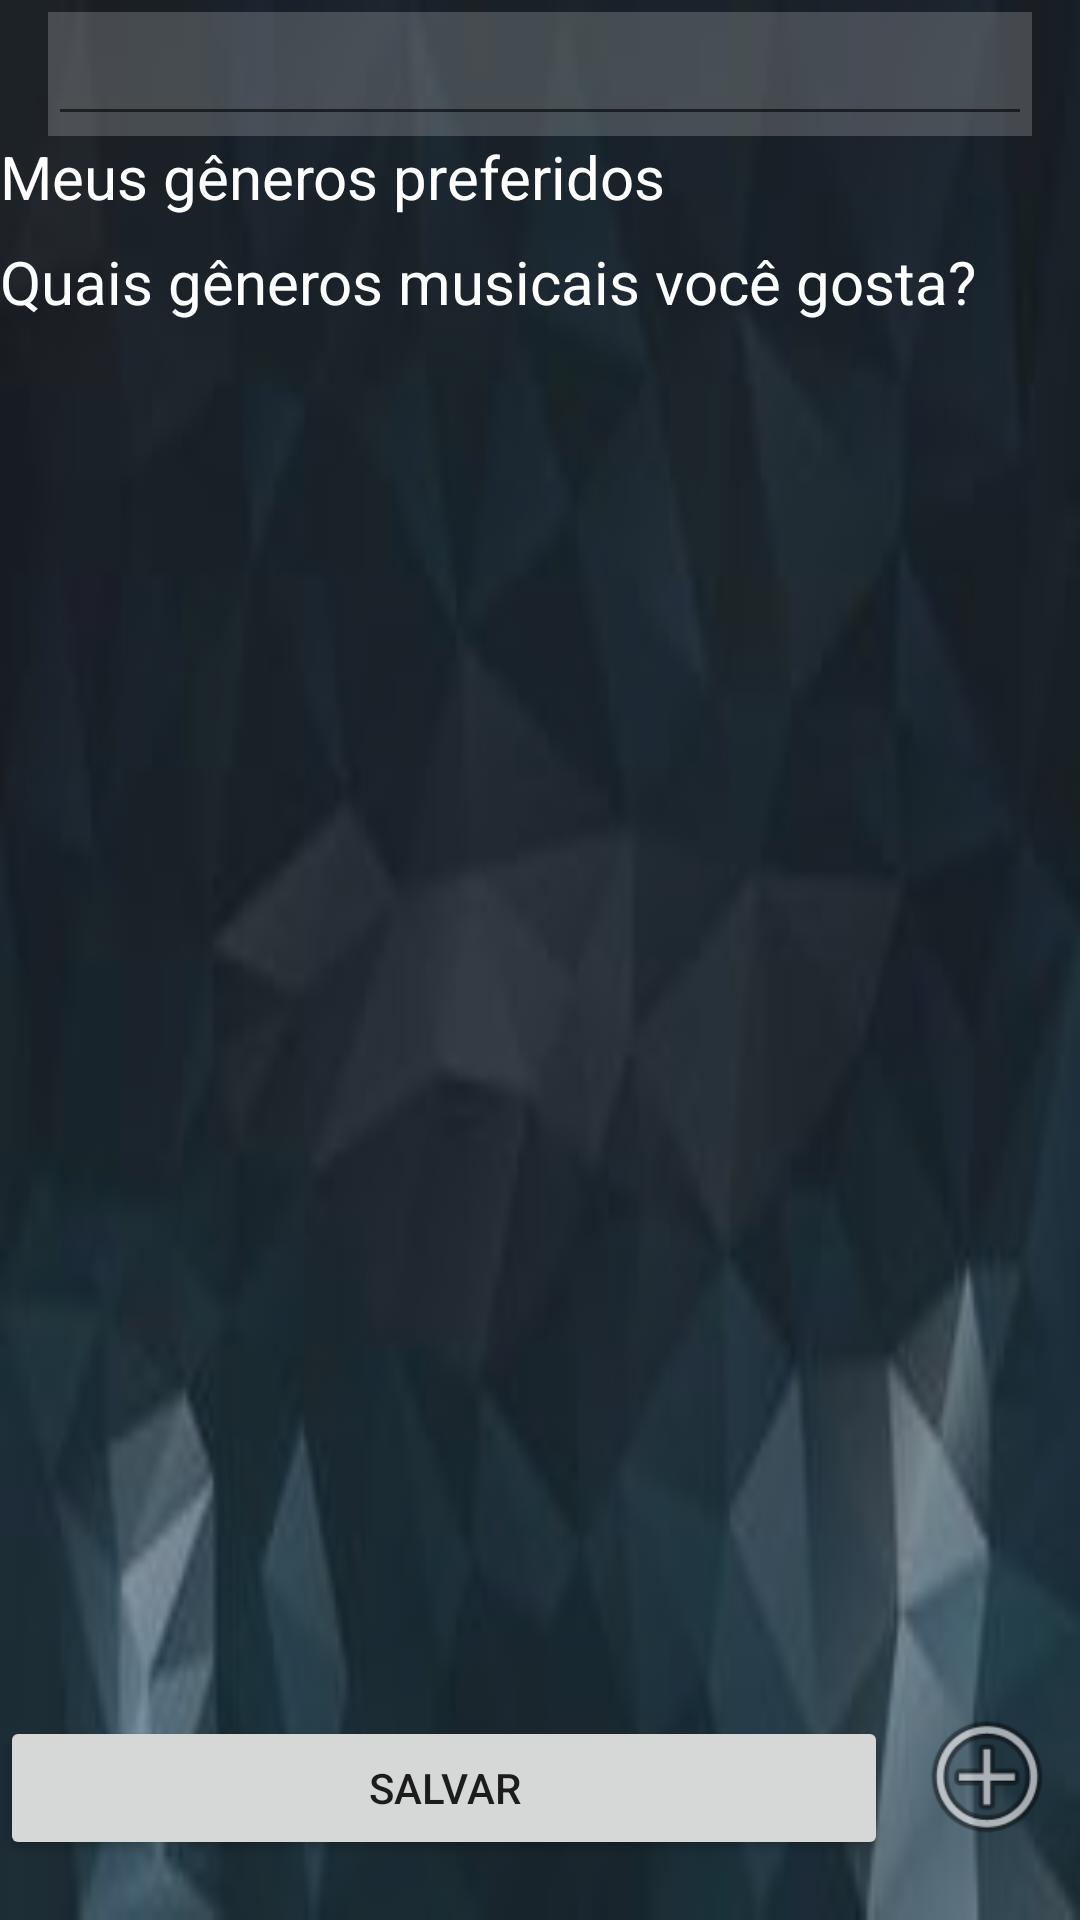

Named icons in this screenshot (1080*1920) and their centers, (x=x, y=y):
add: (x=987, y=1776)
